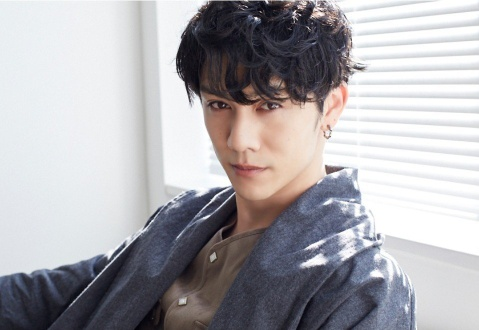male: (170, 6, 356, 211)
